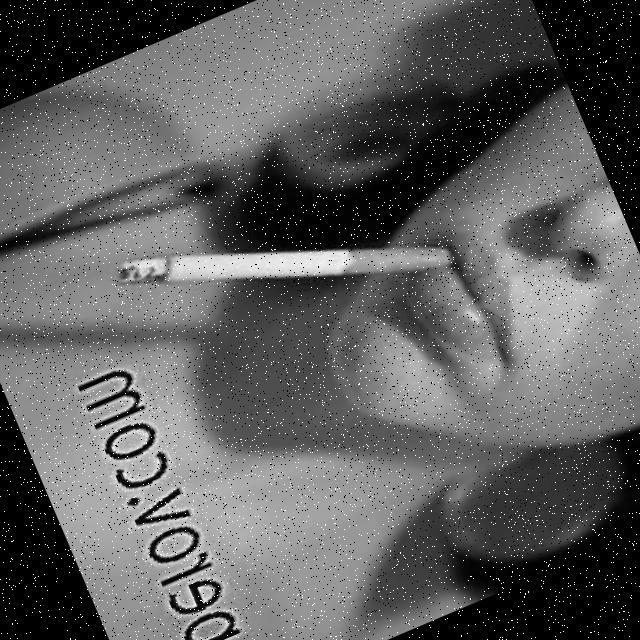cigarette: (105, 133, 470, 391)
